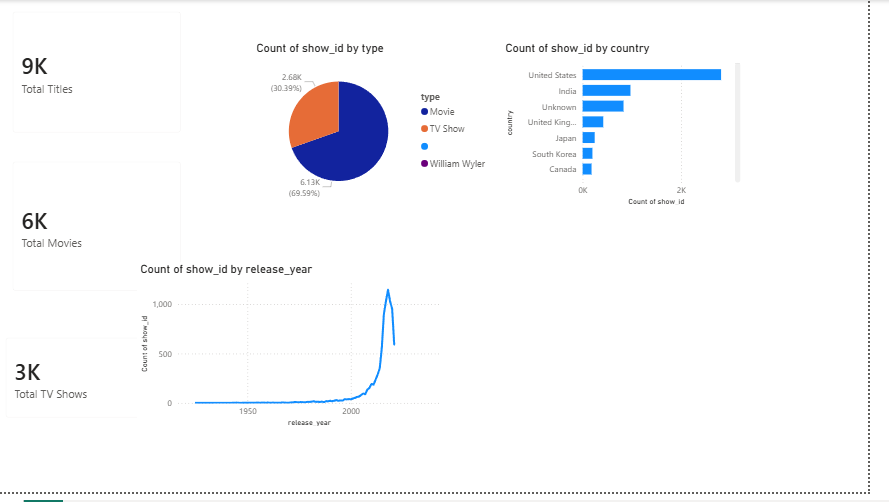

This screenshot's page, from the dashboard's own definition file:
{"tool":"powerbi","page":{"name":"Page 1","canvas":[1280,720],"ordinal":0},"visuals":[{"type":"cardVisual","fields":{"Data":["netflix_cleaned.Total Titles"]},"box":[10.1,0,280.5,211.7],"z":0},{"type":"cardVisual","fields":{"Data":["netflix_cleaned.Total Movies"]},"box":[10.1,220.1,280.5,223.4],"z":1},{"type":"cardVisual","fields":{"Data":["netflix_cleaned.Total TV Shows"]},"box":[0,477.1,280.5,151.2],"z":2},{"type":"pieChart","fields":{"Category":["netflix_cleaned.type"],"Y":["CountNonNull(netflix_cleaned.show_id)"]},"box":[379.6,60.5,354.4,245.2],"z":3},{"type":"clusteredBarChart","fields":{"Category":["netflix_cleaned.country"],"Y":["CountNonNull(netflix_cleaned.show_id)"]},"box":[744,60,354,245],"z":4},{"type":"lineChart","fields":{"Category":["netflix_cleaned.release_year"],"Y":["CountNonNull(netflix_cleaned.show_id)"]},"box":[210,383,451.9,245.2],"z":5}]}

Visuals, with their boxes in screenshot pixels (x1, y1, x2, y2), scaled from the page's 1280x720 canvas onto the 889x502 screenshot:
cardVisual - netflix_cleaned.Total Titles: pyautogui.locateOnScreen(7, 0, 202, 148)
cardVisual - netflix_cleaned.Total Movies: pyautogui.locateOnScreen(7, 153, 202, 309)
cardVisual - netflix_cleaned.Total TV Shows: pyautogui.locateOnScreen(0, 333, 195, 438)
pieChart - netflix_cleaned.type x CountNonNull(netflix_cleaned.show_id): pyautogui.locateOnScreen(264, 42, 510, 213)
clusteredBarChart - netflix_cleaned.country x CountNonNull(netflix_cleaned.show_id): pyautogui.locateOnScreen(517, 42, 763, 213)
lineChart - netflix_cleaned.release_year x CountNonNull(netflix_cleaned.show_id): pyautogui.locateOnScreen(146, 267, 460, 438)
